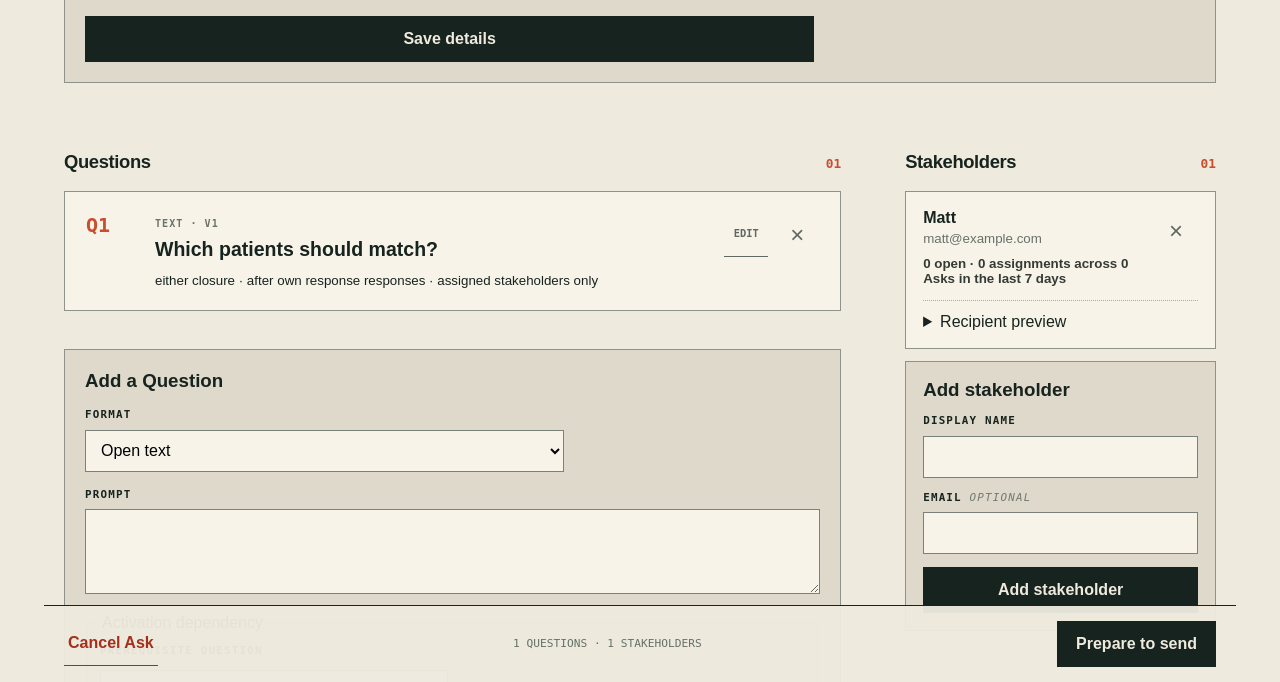
Test: draft authoring › renders the manual draft and recipient preview
This screenshot has width=1280, height=682.
(page scrolled)
Expected: the heading "Which patients should match?" is shown, top-left (155, 238), bottom-right (438, 260)
Expected: the text "Matt" is shown, top-left (923, 209), bottom-right (956, 226)
Click the heading "Recipient preview" at (1003, 322), box top-left (940, 313), bottom-right (1066, 330)
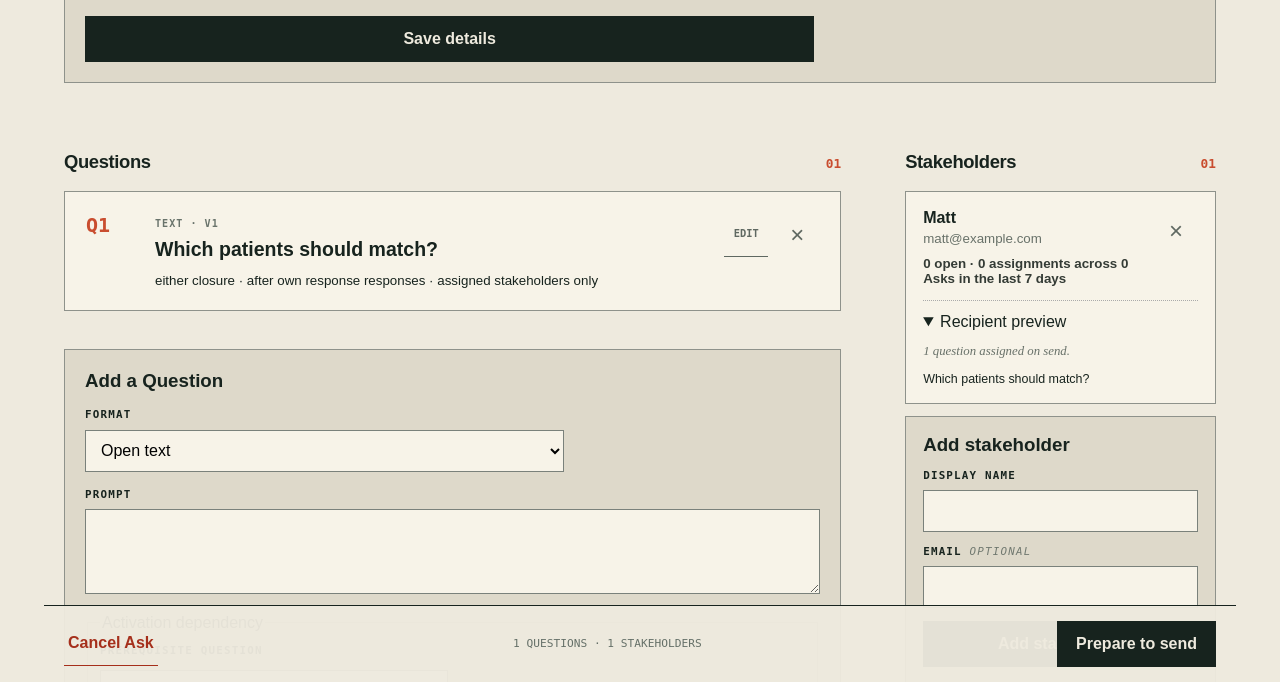
Expected: the text "1 question assigned on send." is shown, top-left (923, 344), bottom-right (1070, 358)
